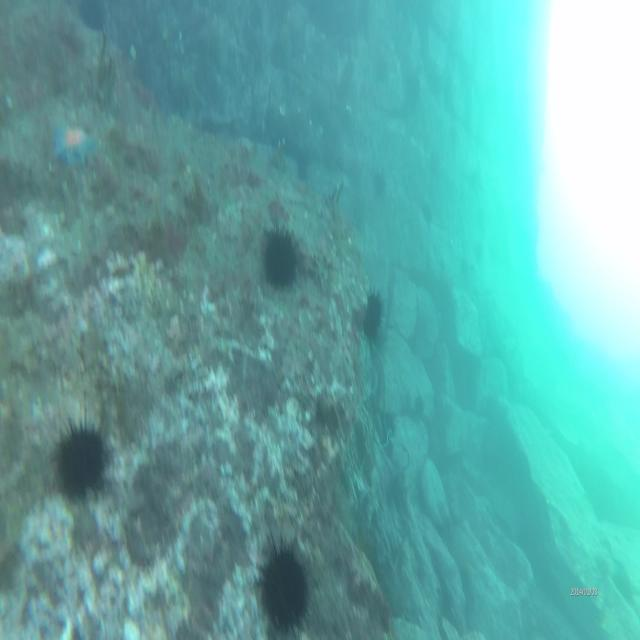echinus: (249, 523, 317, 640), (46, 406, 108, 498), (262, 216, 296, 292), (360, 282, 386, 344)
starfish: (51, 122, 99, 170)
